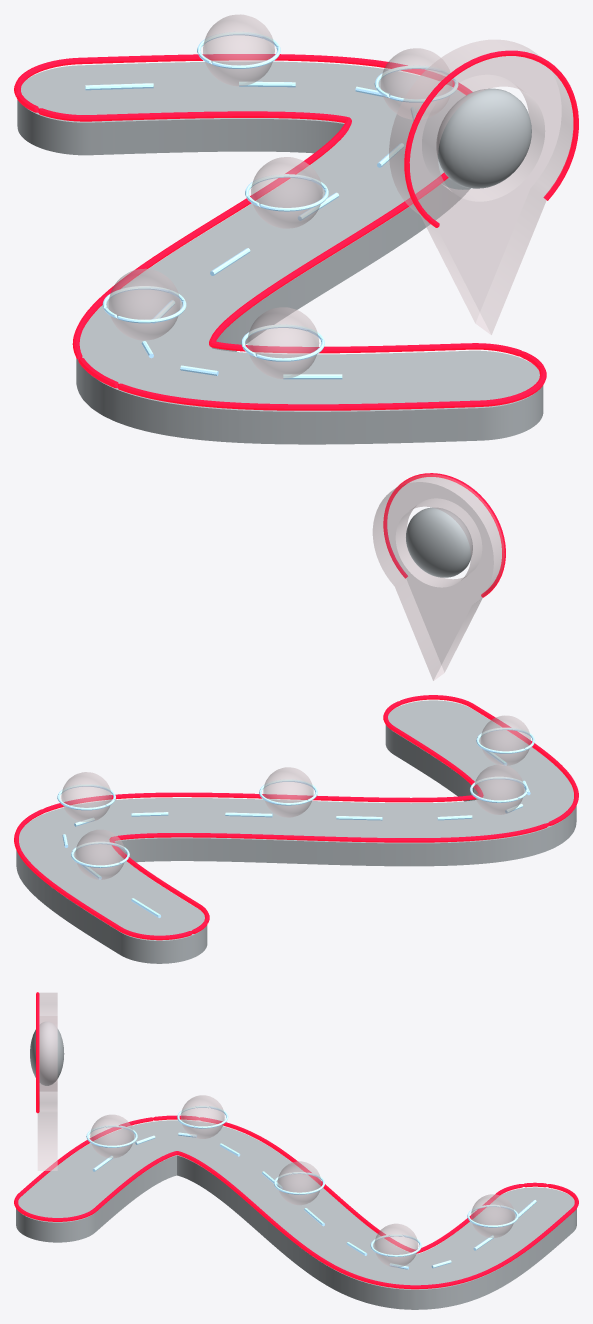
File: 44-customer-journey.glb
3 views of the same model, one above another, from view 1: azimuth 30°, elevation 25°; view 2: azimuth 150°, elevation 25°; view 3: azimuth 270°, elevation 25° (orthographic). The views are drawn at different scales.
Visible parts, largest first — view 1: BC thin clear technical glass, BC subtle ruby technical glass, BC ruby signal edge, BC cool glass edge; view 2: BC thin clear technical glass, BC subtle ruby technical glass, BC ruby signal edge, BC cool glass edge; view 3: BC thin clear technical glass, BC subtle ruby technical glass, BC ruby signal edge, BC cool glass edge.
Part boxes in pixels (x1=…): BC thin clear technical glass: x1=17, y1=61, x2=543, y2=444; BC subtle ruby technical glass: x1=108, y1=14, x2=573, y2=378; BC ruby signal edge: x1=14, y1=50, x2=578, y2=410; BC cool glass edge: x1=85, y1=31, x2=458, y2=379; BC thin clear technical glass: x1=16, y1=507, x2=576, y2=963; BC subtle ruby technical glass: x1=61, y1=474, x2=530, y2=879; BC ruby signal edge: x1=14, y1=473, x2=578, y2=940; BC cool glass edge: x1=57, y1=727, x2=535, y2=917; BC thin clear technical glass: x1=16, y1=1021, x2=576, y2=1309; BC subtle ruby technical glass: x1=37, y1=992, x2=514, y2=1267; BC ruby signal edge: x1=14, y1=992, x2=578, y2=1289; BC cool glass edge: x1=86, y1=1105, x2=536, y2=1269.
Size of the model in its own units: 1.66 by 1.02 by 2.31.
